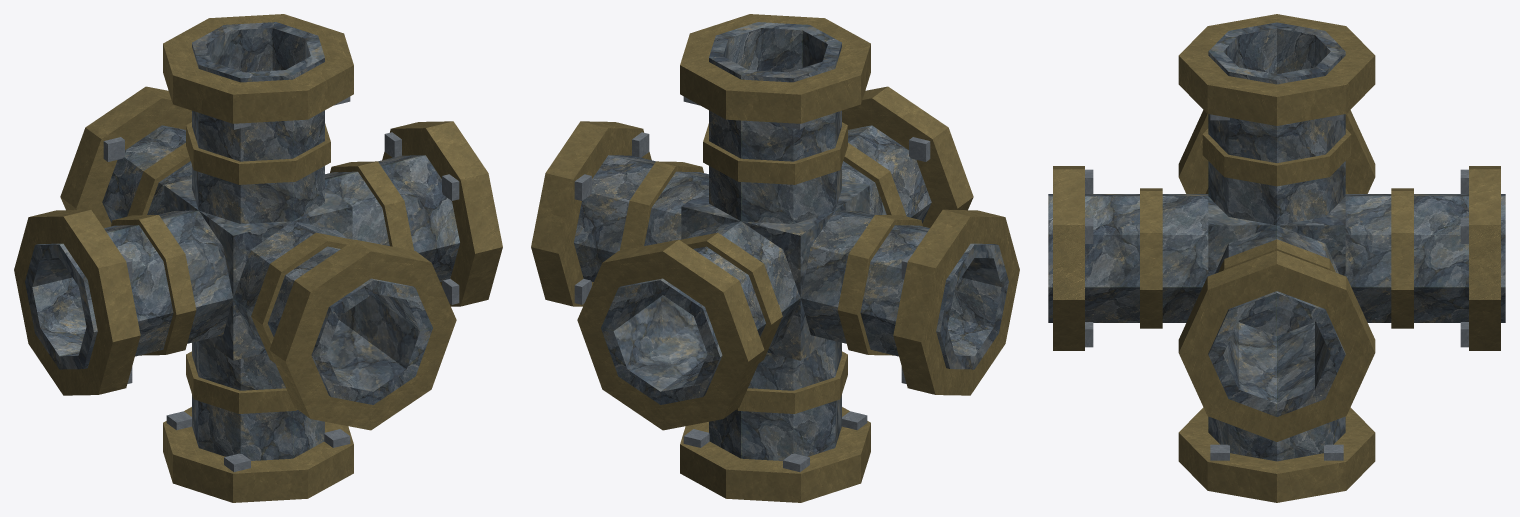
The model's file is stone_pipe.gltf.
3 views of the same model, side by side, from view 1: azimuth 30°, elevation 25°; view 2: azimuth 150°, elevation 25°; view 3: azimuth 270°, elevation 25° (orthographic).
Bounding box in the file's own units: 1 × 1 × 1.
Materials: 3 (3 with a texture image).
